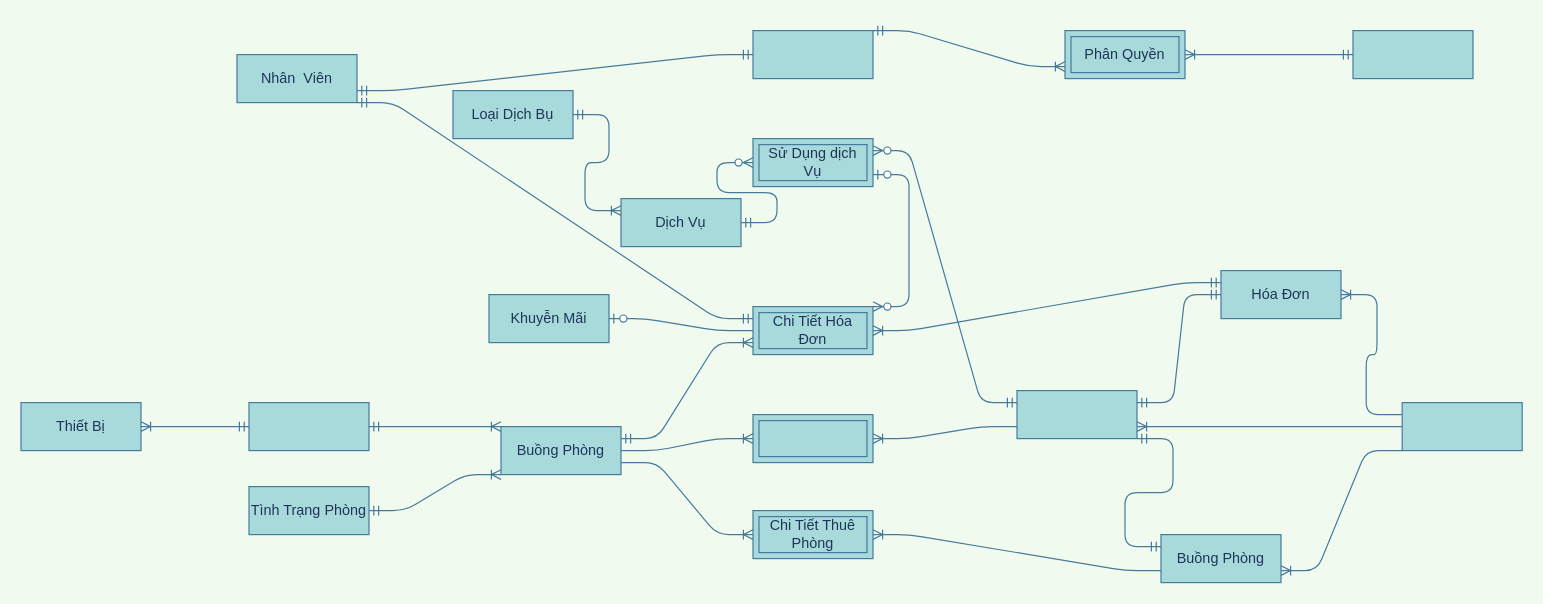
This 1543x604 diagram has some shape labels left out. The shapes that lost their labels are listed below. From the top down, each one's centre as x and y in pixels, then its label:
At pixel 812 54: "Nhóm Quyền".
At pixel 1412 54: "Quyền".
At pixel 308 426: "Loại Phòng".
At pixel 1076 414: "Nhận Phòng".
At pixel 1461 426: "Khách Hàng".
At pixel 812 438: "Chi Tiết Nhận Phòng".
